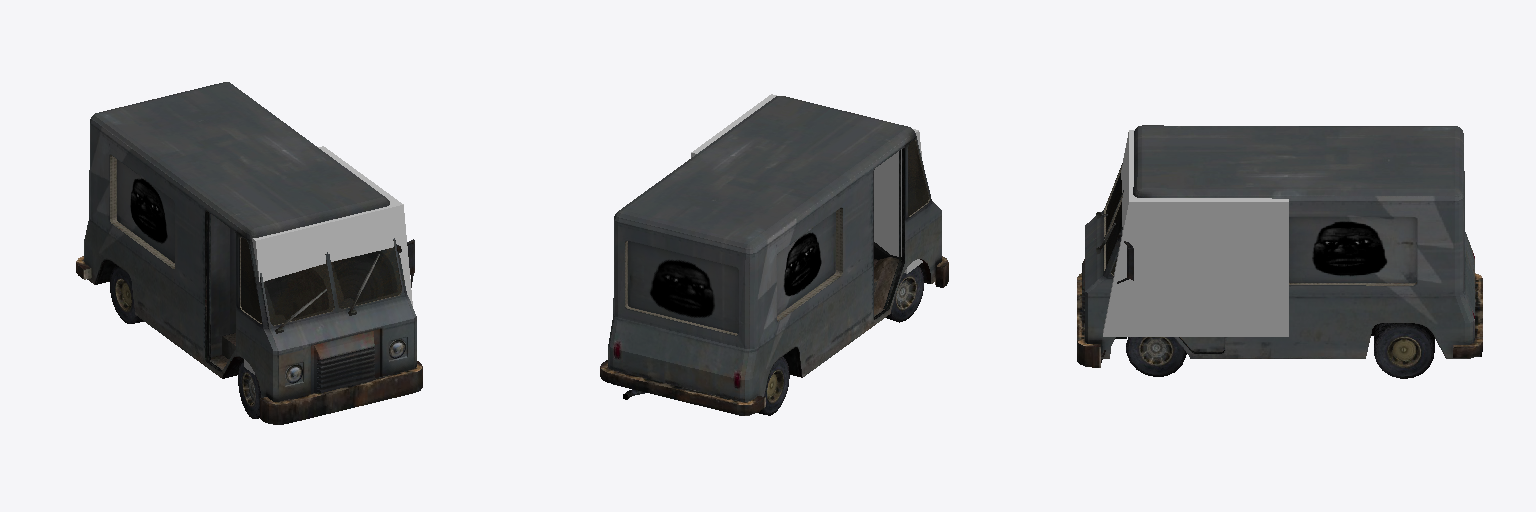
3 views of the same model, side by side, from view 1: azimuth 30°, elevation 25°; view 2: azimuth 150°, elevation 25°; view 3: azimuth 270°, elevation 25° (orthographic).
Visible parts, largest first — view 1: van_models/props/cs_militia/van.001; view 2: van_models/props/cs_militia/van.001; view 3: van_models/props/cs_militia/van.001.
Part boxes in pixels (left/top/right/bottom): van_models/props/cs_militia/van.001: left=76, top=82, right=422, bottom=424; van_models/props/cs_militia/van.001: left=600, top=94, right=948, bottom=415; van_models/props/cs_militia/van.001: left=1077, top=125, right=1482, bottom=378.
Size of the model in its own units: 1.81 by 1.92 by 3.72.
Materials: 2 (1 with a texture image).